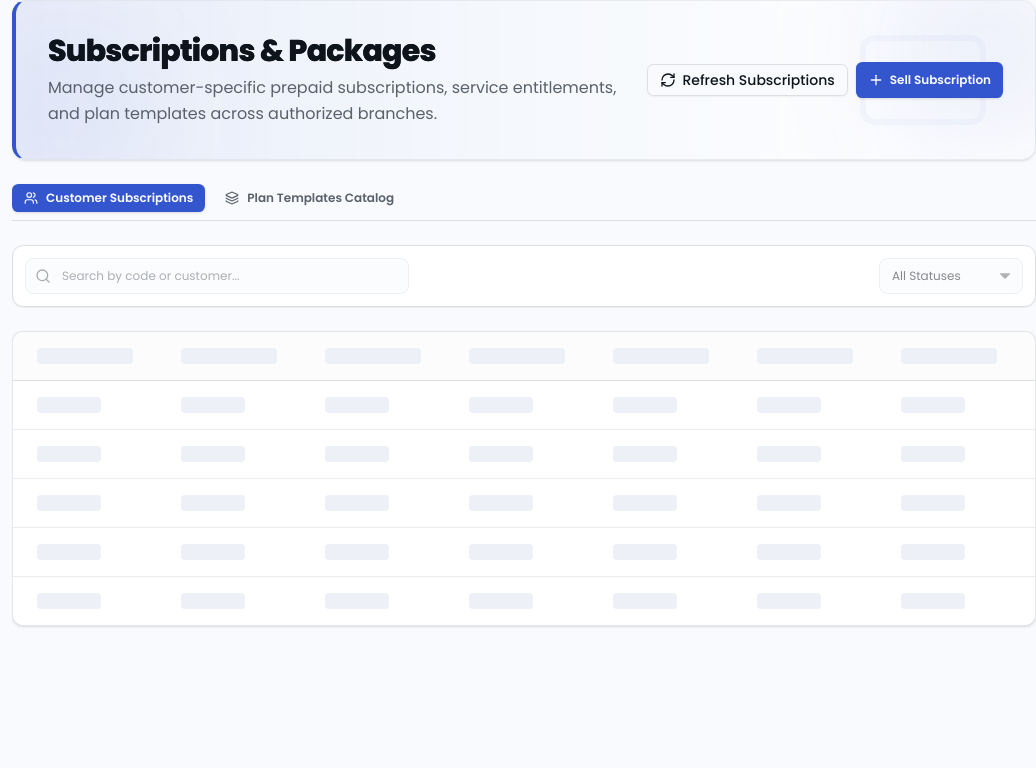
Test case: SubscriptionList UI Banner Refresh Functionality › renders shimmer skeleton (.animate-pulse) when plan templates catalog query is loading
What coordinates should you click on to do the following:
click the button "Plan Templates Catalog"
I would click on:
 (310, 198)
Its box is top-left (213, 184), bottom-right (406, 212).
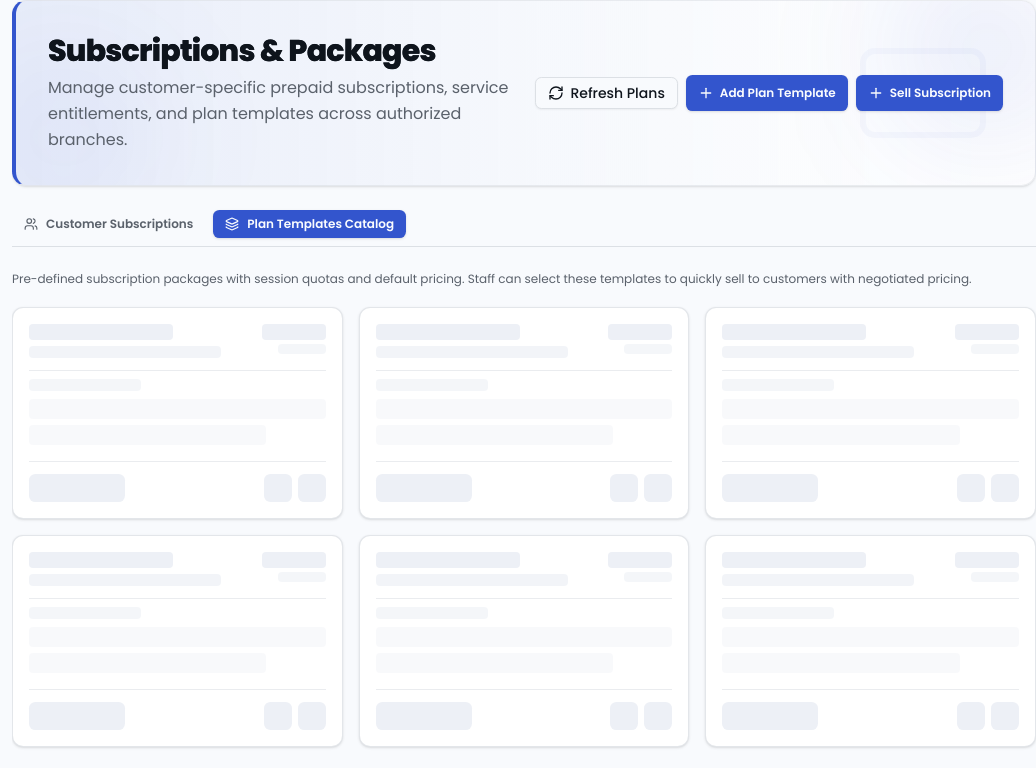
Result: the 1st element with class "animate-pulse" is shown at top-left (12, 307), bottom-right (343, 519)
